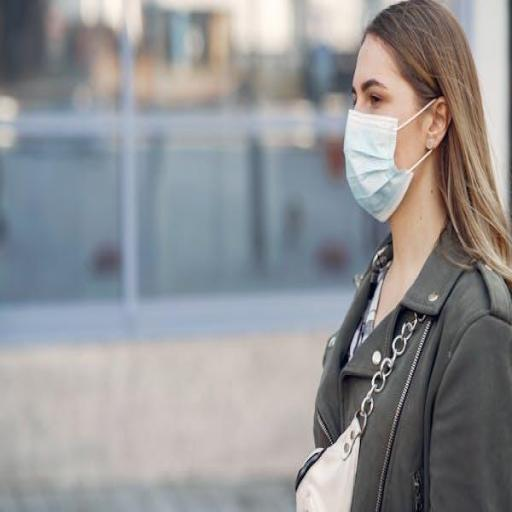mask: (326, 21, 453, 220)
